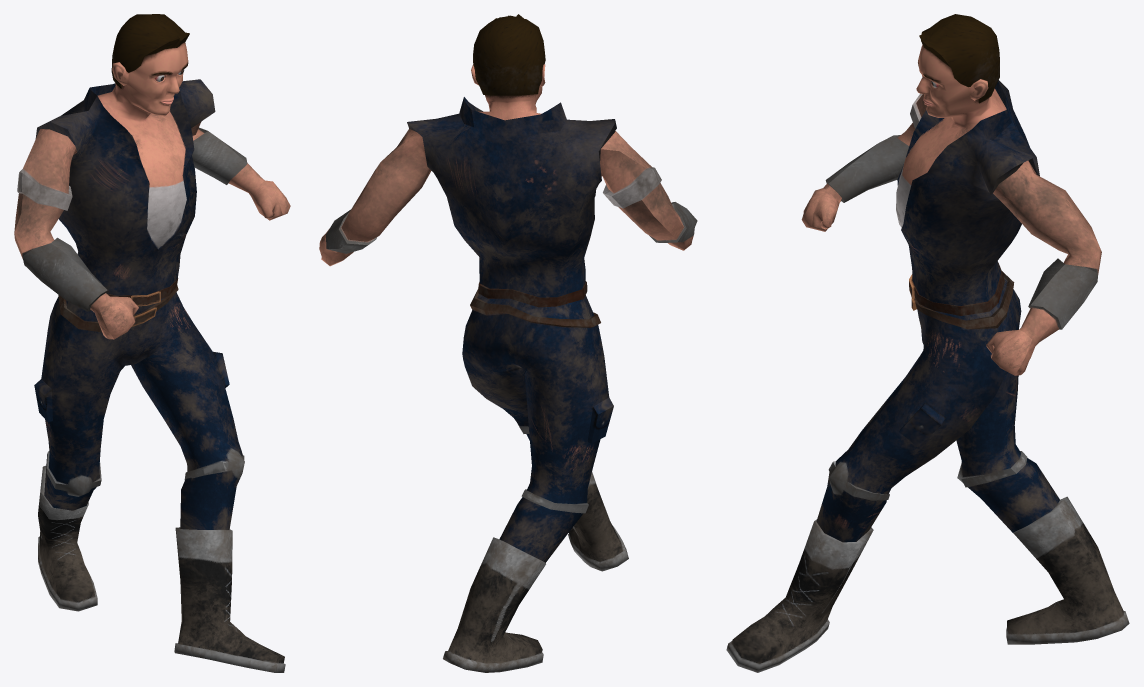
The model's file is Anim_ataque_f1_jugador.0014.obj.
3 renders of one model, left to right at view 1: azimuth 30°, elevation 25°; view 2: azimuth 150°, elevation 25°; view 3: azimuth 270°, elevation 25°, orthographic. The views are drawn at different scales.
Visible parts, largest first — view 1: polySurface1; view 2: polySurface1; view 3: polySurface1.
Boxes of the visible parts, box(x1,y1,x2,y2) form: polySurface1: box(14, 14, 290, 672); polySurface1: box(319, 14, 697, 672); polySurface1: box(726, 14, 1129, 672).
Bounding box in the file's own units: 5.03 × 9.21 × 5.23.
